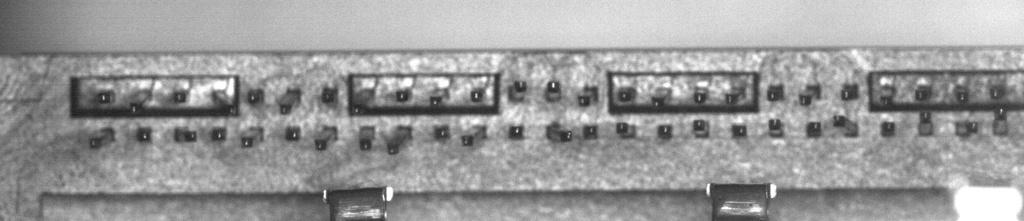pin_defect: (210, 87, 241, 118), (349, 86, 377, 117), (384, 127, 412, 155), (278, 86, 304, 115), (832, 114, 860, 140), (87, 126, 116, 151), (314, 123, 339, 151), (128, 88, 154, 114), (239, 126, 265, 149), (577, 83, 601, 107), (427, 86, 452, 109), (798, 83, 823, 106), (462, 124, 488, 146), (546, 123, 574, 143), (649, 88, 672, 111), (723, 85, 747, 106), (993, 103, 1008, 136), (358, 124, 375, 152), (878, 82, 897, 107), (616, 121, 639, 141), (918, 109, 934, 136), (508, 79, 527, 101), (955, 120, 978, 138), (913, 83, 934, 102), (692, 119, 711, 139), (544, 80, 562, 100), (840, 83, 859, 101), (952, 83, 970, 102), (174, 127, 196, 142), (320, 85, 337, 103), (988, 83, 1006, 100), (768, 118, 784, 137), (616, 87, 635, 103), (880, 120, 896, 137), (806, 120, 822, 137), (172, 89, 188, 103)
pin_ok: (766, 84, 784, 101), (693, 86, 709, 104), (433, 124, 450, 140), (246, 88, 263, 104), (285, 125, 301, 141), (657, 123, 673, 139), (731, 122, 747, 138), (136, 127, 152, 142), (508, 124, 524, 139), (96, 90, 113, 104), (583, 124, 598, 139), (470, 88, 485, 103), (395, 88, 411, 102), (211, 127, 226, 141)
